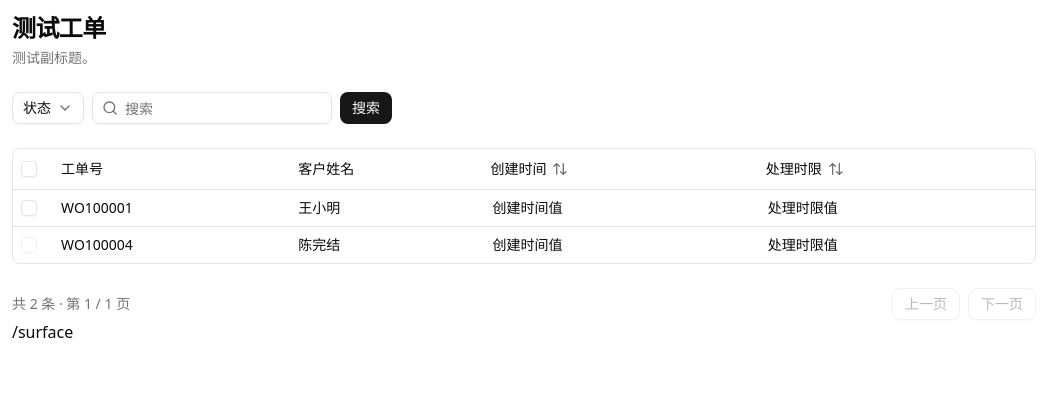
Test case: selection（可选） › 全选本页跳过不可选行
The width and height of the screenshot is (1048, 417).
Check: the link "WO100001" is shown, box [61, 198, 133, 216]
Click the checkbox named "选择本页全部工单". click: (29, 169)
box: [21, 161, 37, 177]
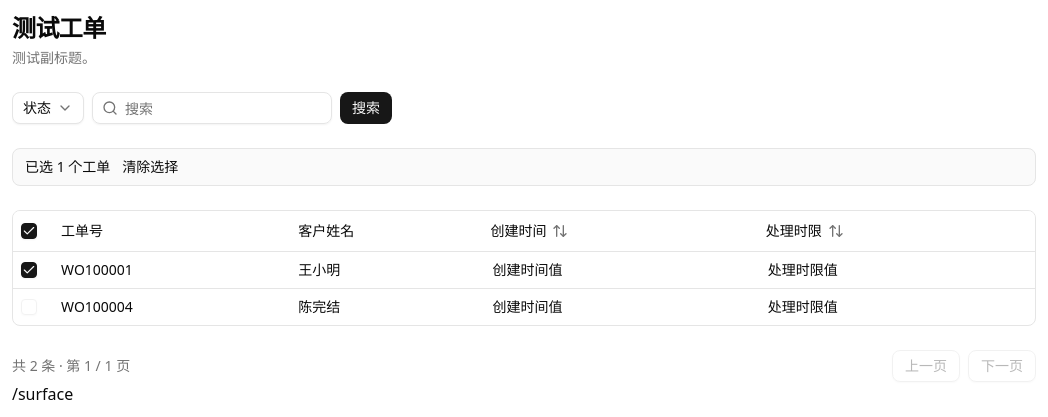
Check: the text "已选 1 个工单" is shown, box [25, 157, 110, 177]
Check: the checkbox named "选择工单 WO100001" is checked, box [21, 262, 37, 278]
